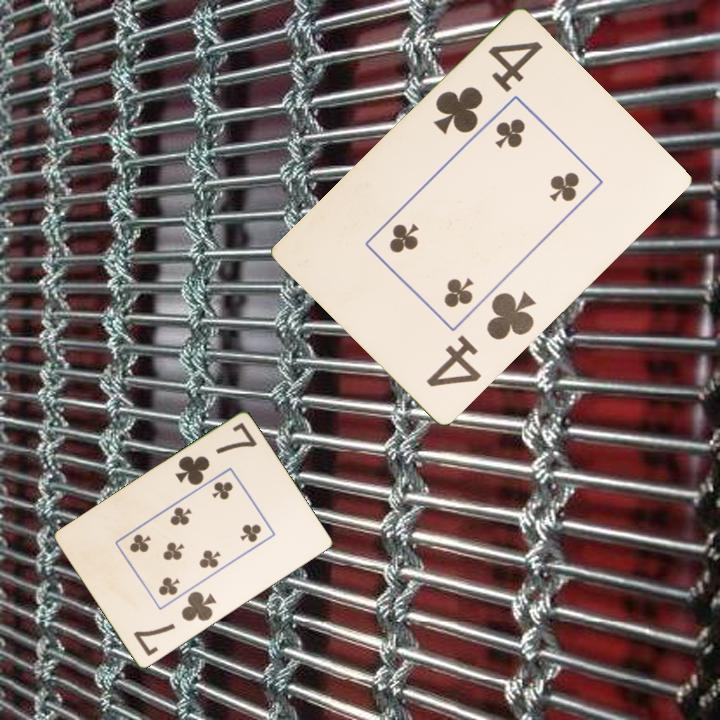4c: (422, 288, 539, 391), (429, 37, 546, 139)
7c: (130, 588, 219, 660), (171, 419, 260, 489)
